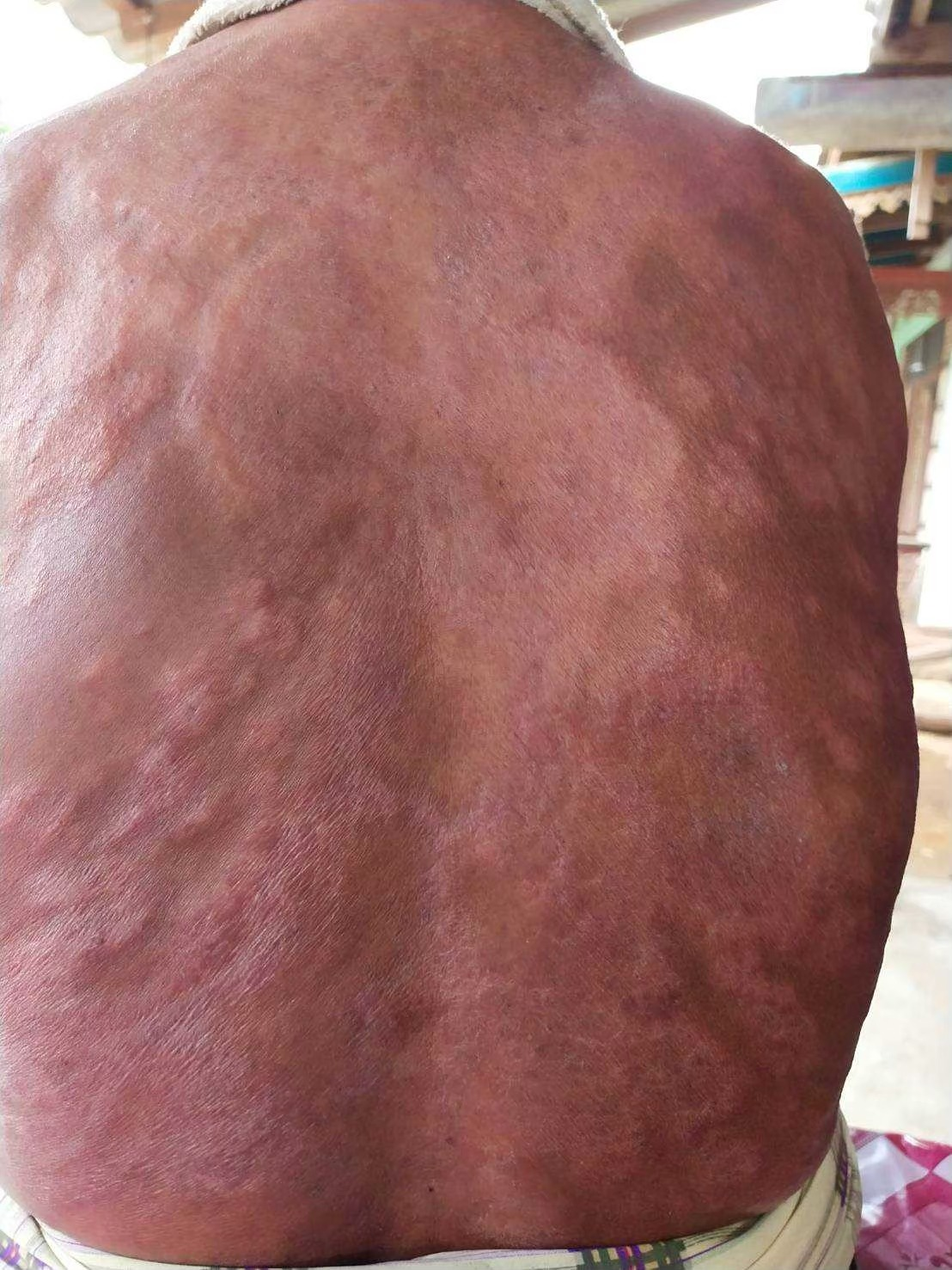Leprosy: (191, 165, 752, 830), (198, 94, 723, 586), (180, 878, 818, 1206), (344, 764, 780, 1208), (9, 750, 365, 1227), (4, 348, 183, 727), (3, 175, 180, 530), (662, 647, 833, 987), (739, 211, 896, 560), (779, 592, 906, 838), (52, 897, 171, 989), (88, 801, 169, 859)
